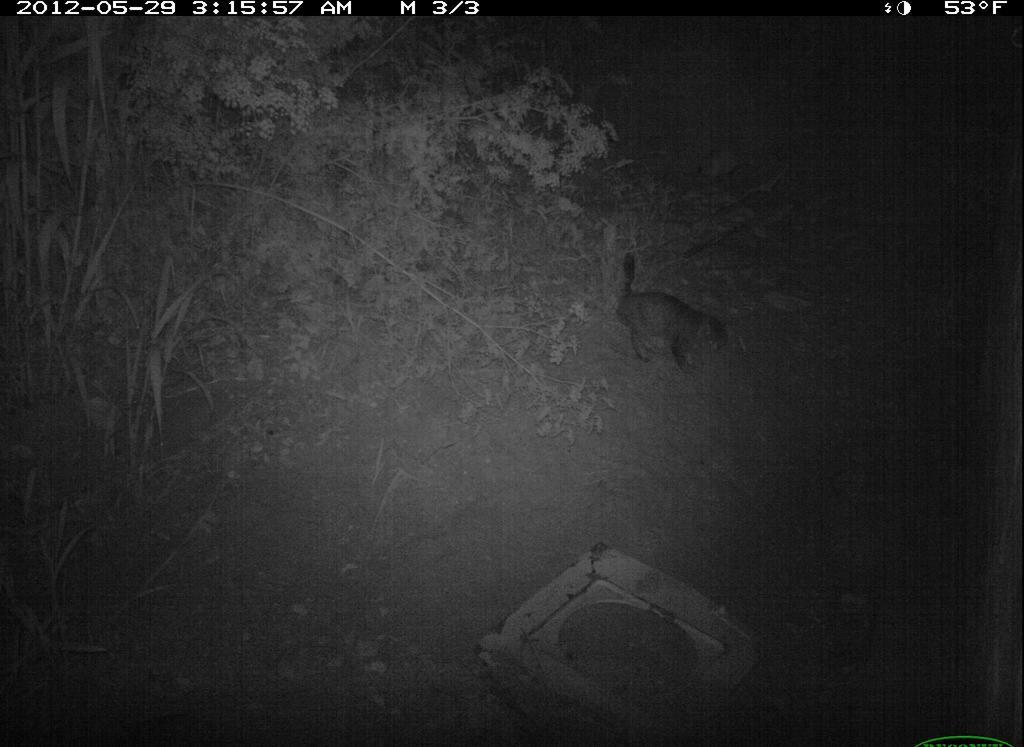cat: (614, 246, 736, 379)
